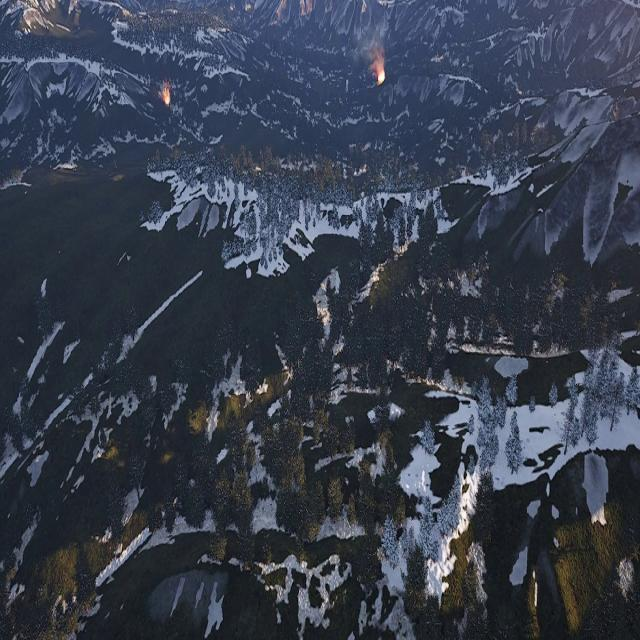fire: (376, 64, 386, 85), (163, 86, 172, 106)
smoke: (352, 18, 386, 68)
